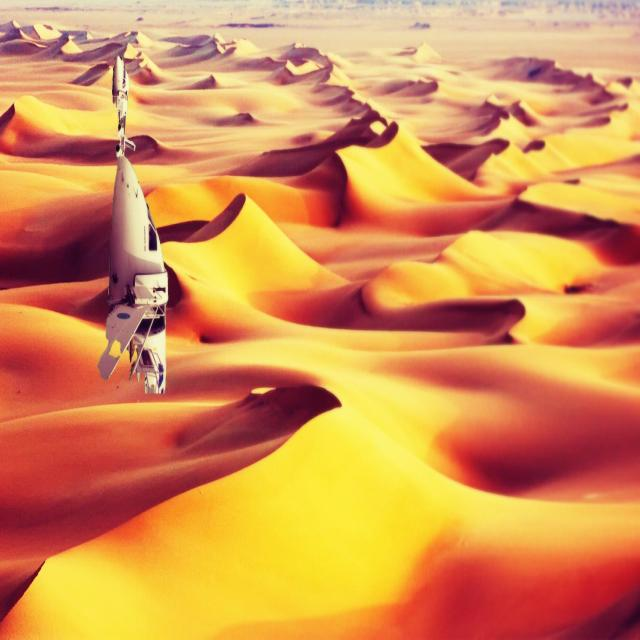airplane: (97, 156, 166, 395), (112, 52, 136, 155)
